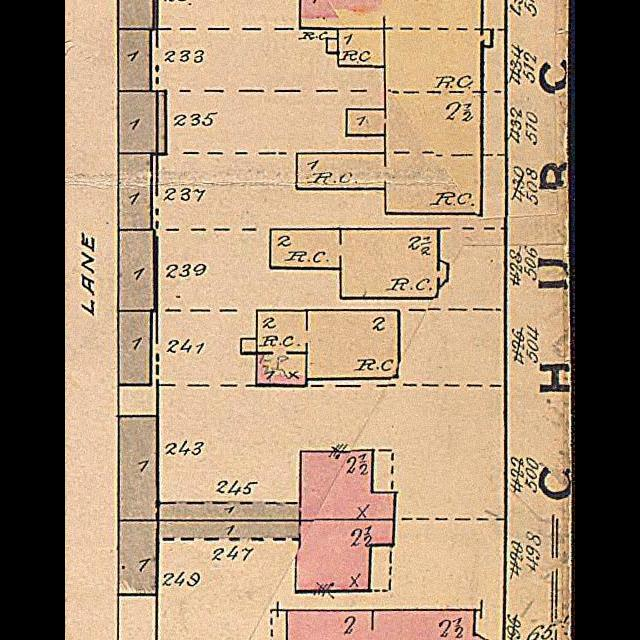building-footprints: (296, 0, 493, 214), (270, 229, 448, 299), (256, 311, 399, 386), (295, 520, 394, 592), (300, 450, 395, 520), (287, 610, 485, 640), (119, 416, 159, 520), (118, 520, 158, 594), (118, 230, 154, 311), (157, 520, 300, 540), (158, 503, 300, 521), (118, 90, 157, 154), (119, 154, 151, 229), (118, 311, 150, 386), (117, 28, 151, 91), (338, 30, 385, 66), (118, 0, 154, 29), (241, 339, 256, 354), (327, 38, 338, 53)
